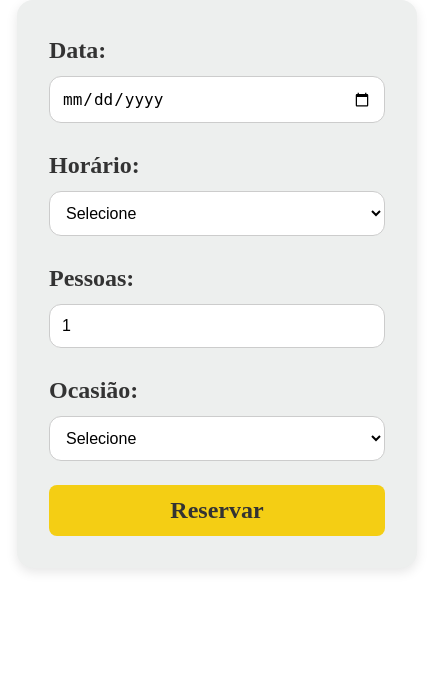
Scenario: ReservationForm › deve mostrar mensagens de erro ao enviar o formulário vazio
Clear the number field labelled "Pessoas:" at (217, 326), box top-left (49, 304), bottom-right (385, 348)
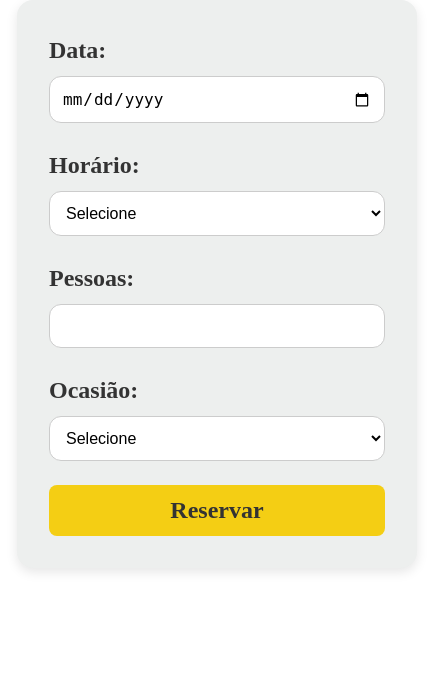
Click the button "Reservar" at (217, 510), box top-left (49, 485), bottom-right (385, 536)
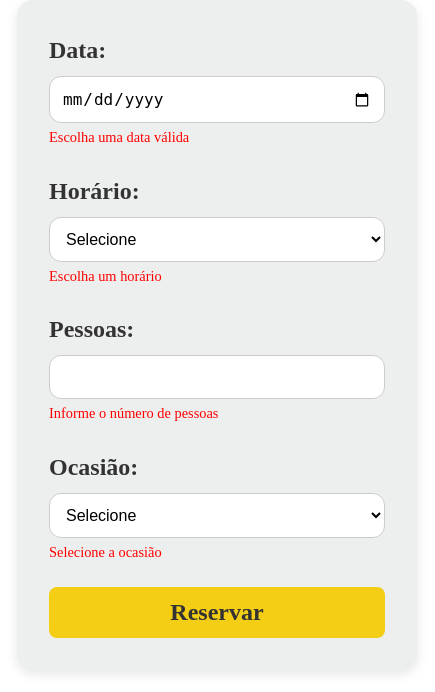
Now the text "Escolha uma data válida" is shown, box top-left (49, 129), bottom-right (189, 145)
Now the text "Escolha um horário" is shown, box top-left (49, 268), bottom-right (162, 284)
Now the text "Informe o número de pessoas" is shown, box top-left (49, 405), bottom-right (218, 421)
